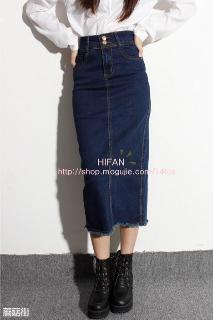long sleeve top: (26, 0, 198, 51)
skirt: (72, 31, 151, 236)
